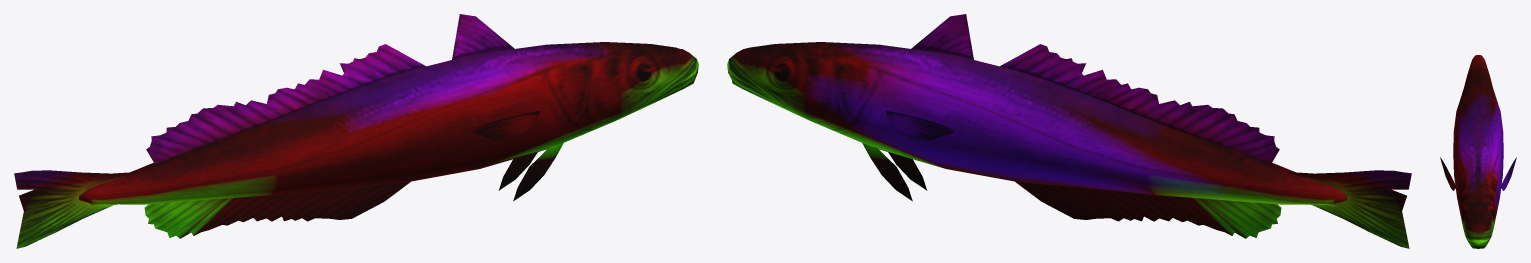
File: european_hake.glb
The picture shows the model from 3 angles, left to right: view 1: azimuth 30°, elevation 25°; view 2: azimuth 150°, elevation 25°; view 3: azimuth 270°, elevation 25°; orthographic projection. The views are drawn at different scales.
Parts seen in each view (by area): view 1: EuropeanHake; view 2: EuropeanHake; view 3: EuropeanHake.
Boxes of the visible parts, bbox=[...] form: EuropeanHake: bbox=[14, 14, 698, 248]; EuropeanHake: bbox=[727, 14, 1411, 248]; EuropeanHake: bbox=[1440, 55, 1516, 248].
Size of the model in its own units: 1 by 0.2701 by 0.1658.
1 material, 1 textured.
